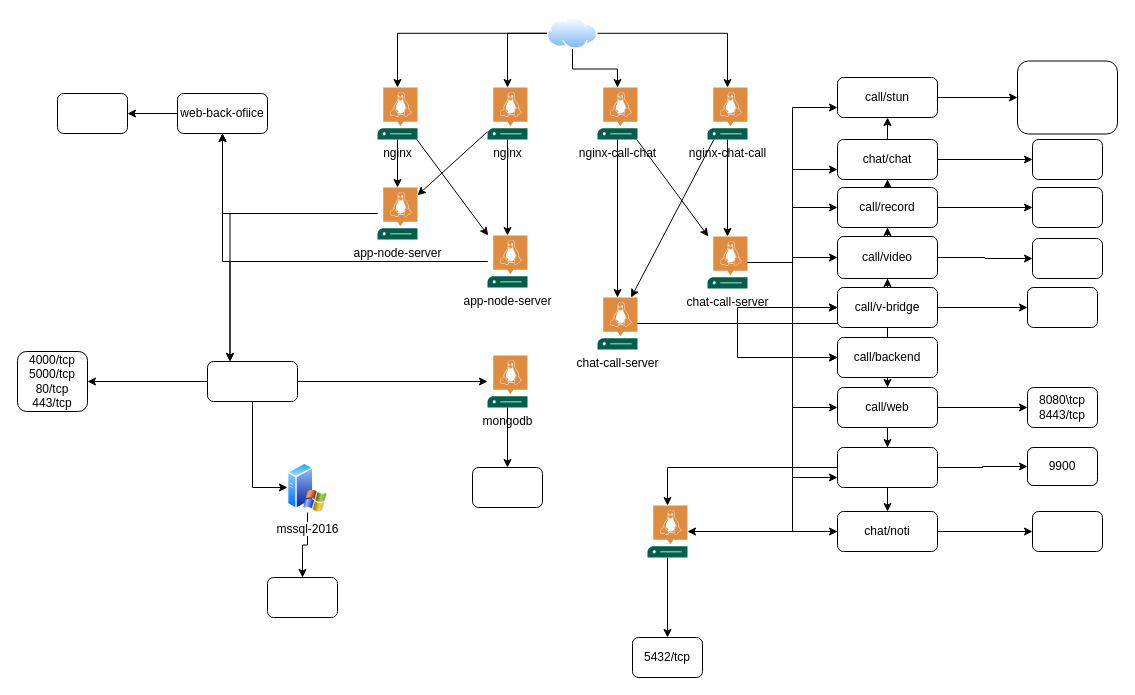
This 1135x695 diagram has some shape labels left out. Each missing label, with the centre of its shape:
"10000/udp" goes at (x=1067, y=258).
"1433/tcp" goes at (x=302, y=597).
"27017/tcp" goes at (x=507, y=487).
"3478/tcp & udp 5349/udp" goes at (x=1067, y=97).
"5000/tcp" goes at (x=1067, y=531).
"80/tcp" goes at (x=92, y=113).
"8008/tcp" goes at (x=1067, y=159).
"8338/tcp" goes at (x=1067, y=207).
"8888/tcp" goes at (x=1062, y=307).
"chat-call-gateway-services" goes at (x=887, y=467).
"cskh-serveices" goes at (x=252, y=381).
"postgresql-server" goes at (x=667, y=531).
